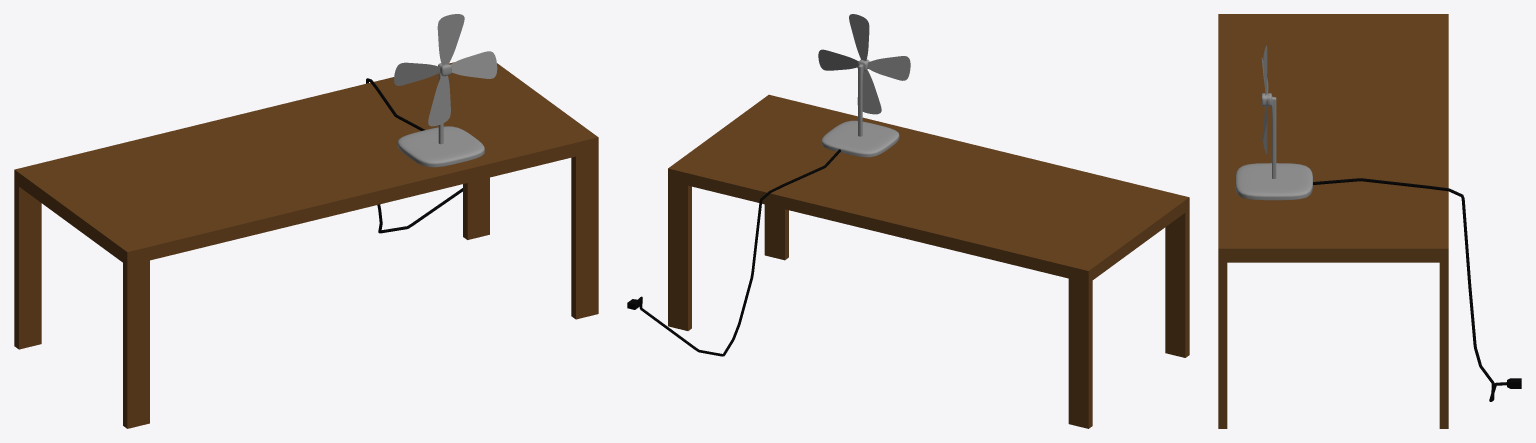
The model's file is table.glb.
3 renders of one model, left to right at view 1: azimuth 30°, elevation 25°; view 2: azimuth 150°, elevation 25°; view 3: azimuth 270°, elevation 25°, orthographic. The views are drawn at different scales.
Visible parts, largest first — view 1: Table, Blades, Base, Cable; view 2: Table, Blades, Base, Cable; view 3: Table, Base, Cable, Blades.
Part boxes in pixels (bbox=[...]): Table: bbox=[14, 62, 598, 428]; Blades: bbox=[394, 14, 497, 126]; Base: bbox=[397, 63, 484, 167]; Cable: bbox=[366, 78, 462, 233]; Table: bbox=[668, 94, 1189, 428]; Blades: bbox=[818, 14, 910, 114]; Base: bbox=[821, 59, 899, 157]; Cable: bbox=[627, 149, 840, 356]; Table: bbox=[1218, 14, 1448, 428]; Base: bbox=[1235, 93, 1312, 200]; Cable: bbox=[1313, 178, 1521, 401]; Blades: bbox=[1261, 45, 1268, 154].
Bounding box in the file's own units: 1.83 × 1.13 × 0.9757.
